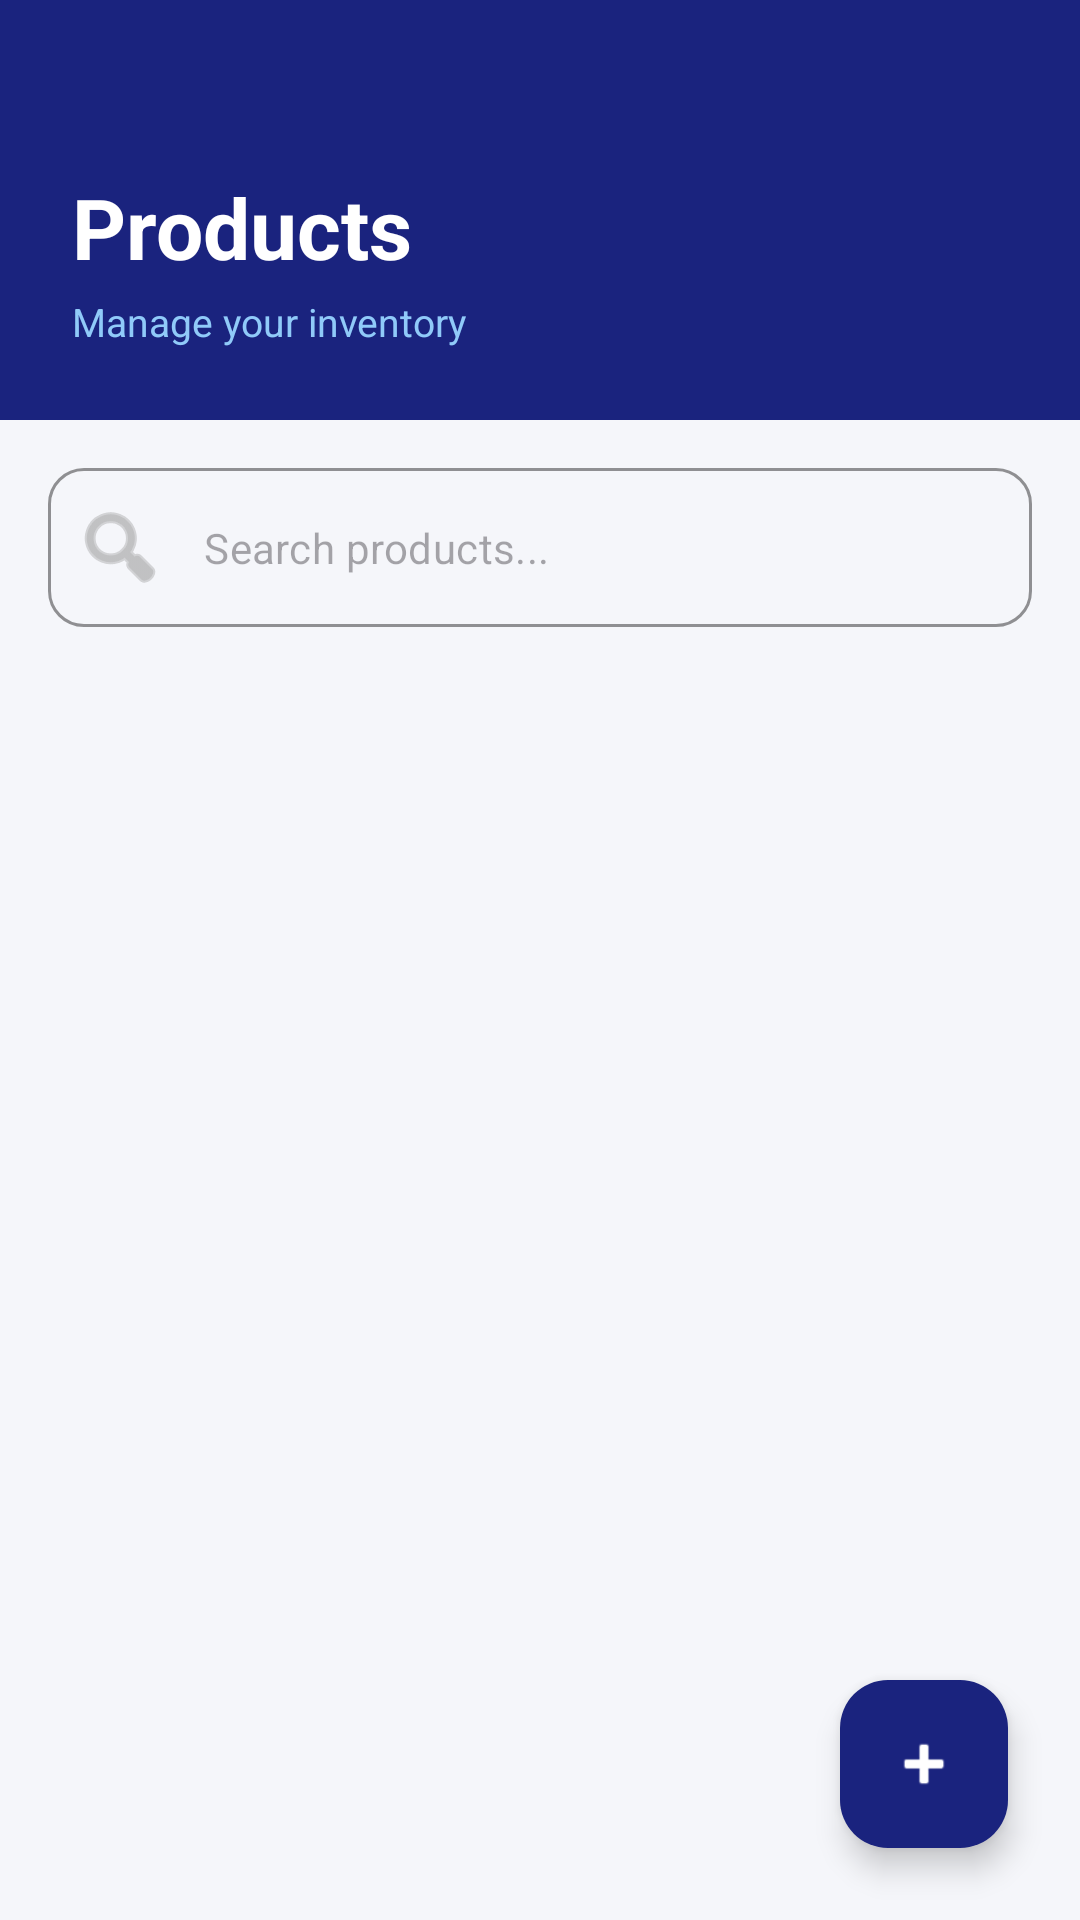

Named icons in this screenshot (1080px x 1920px) and their centers, [x,y]:
Add Product: [924,1764]
